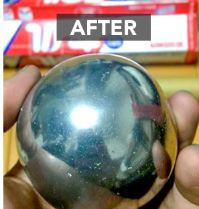Alive: (21, 48, 180, 206)
